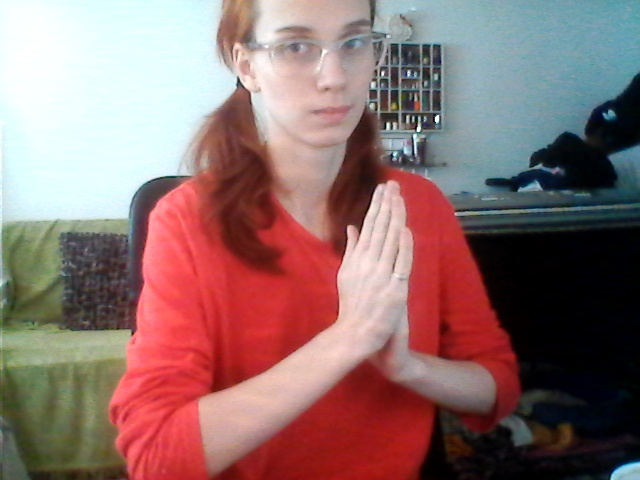prosim: (287, 177, 445, 401)
